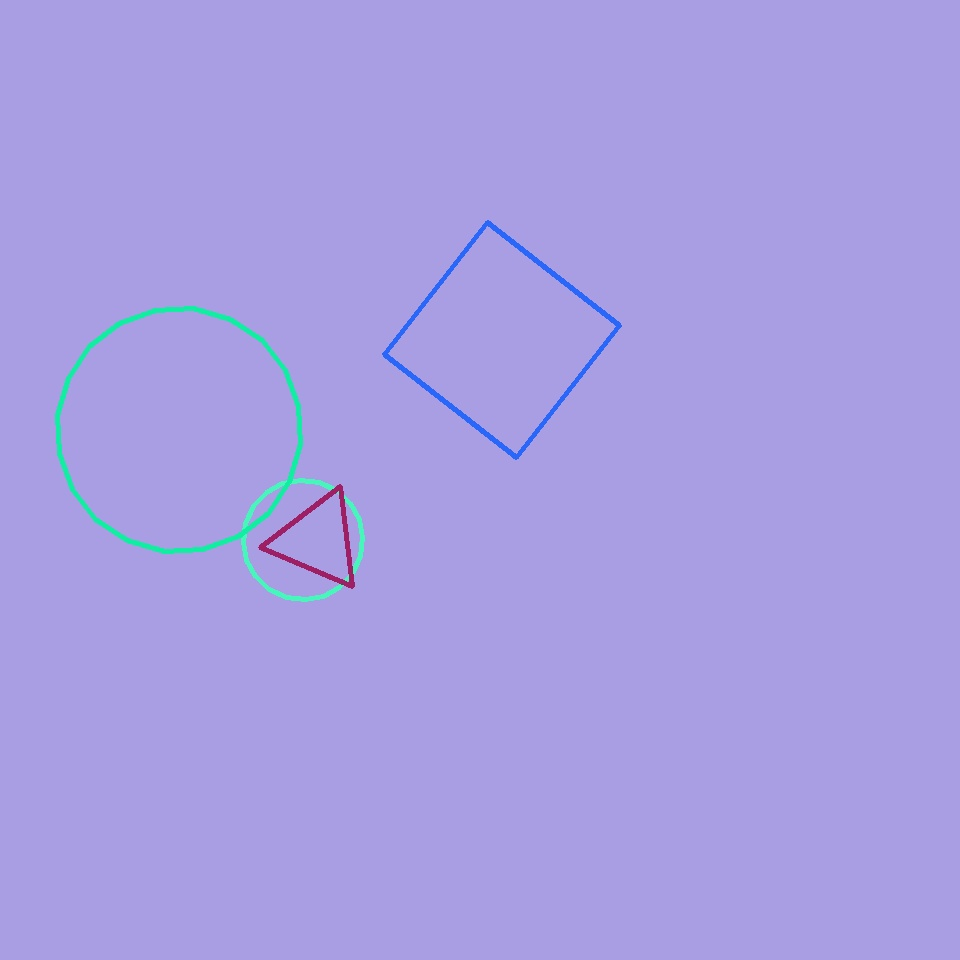circle: (272, 490, 364, 590)
square: (385, 223, 620, 458)
triangle: (58, 309, 300, 552), (244, 480, 362, 600)
